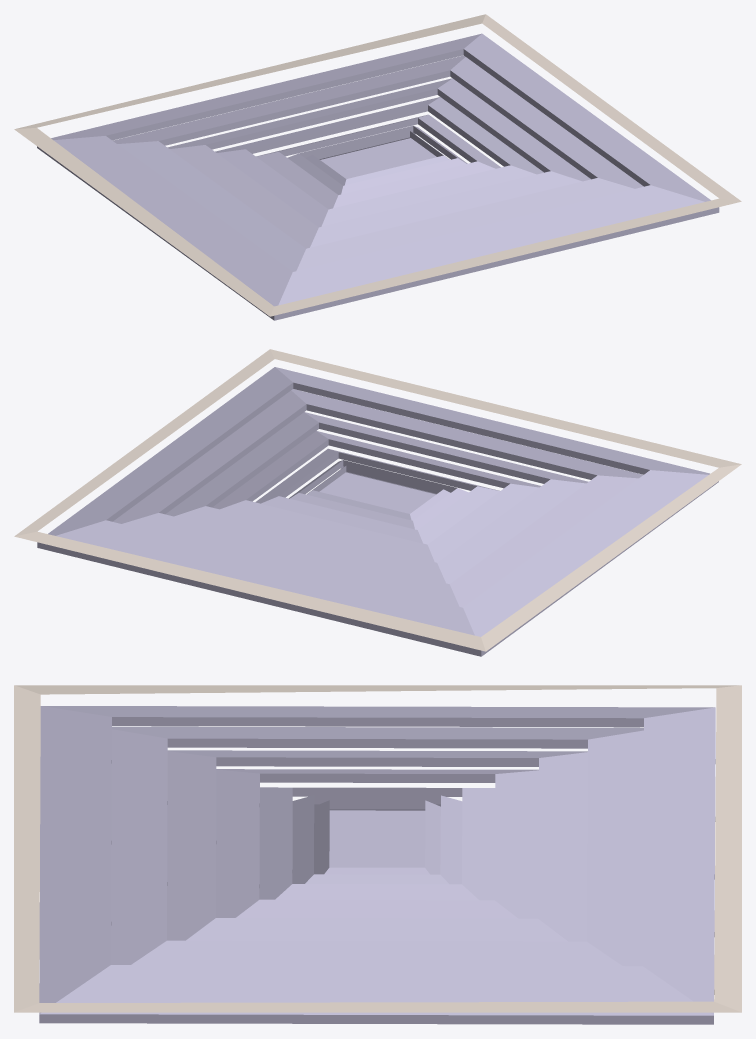
File: CeilingTileVent.fbx
3 renders of one model, top to bottom at view 1: azimuth 30°, elevation 25°; view 2: azimuth 150°, elevation 25°; view 3: azimuth 270°, elevation 25°, orthographic. The views are drawn at different scales.
Parts seen in each view (by area): view 1: CeilignTilesVent; view 2: CeilignTilesVent; view 3: CeilignTilesVent.
Boxes of the visible parts, <box> form: CeilignTilesVent: <box>14,14,741,320</box>; CeilignTilesVent: <box>14,349,741,656</box>; CeilignTilesVent: <box>14,685,741,1024</box>.
Bounding box in the file's own units: 282 × 14.77 × 265.
